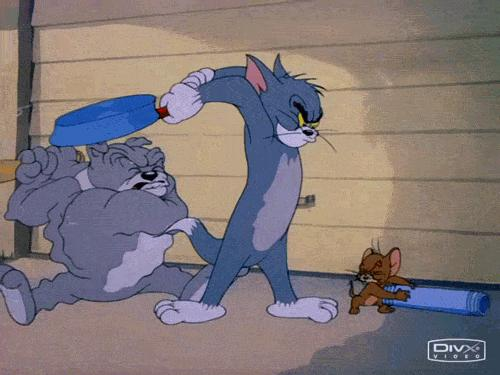jerry: (347, 238, 418, 316)
